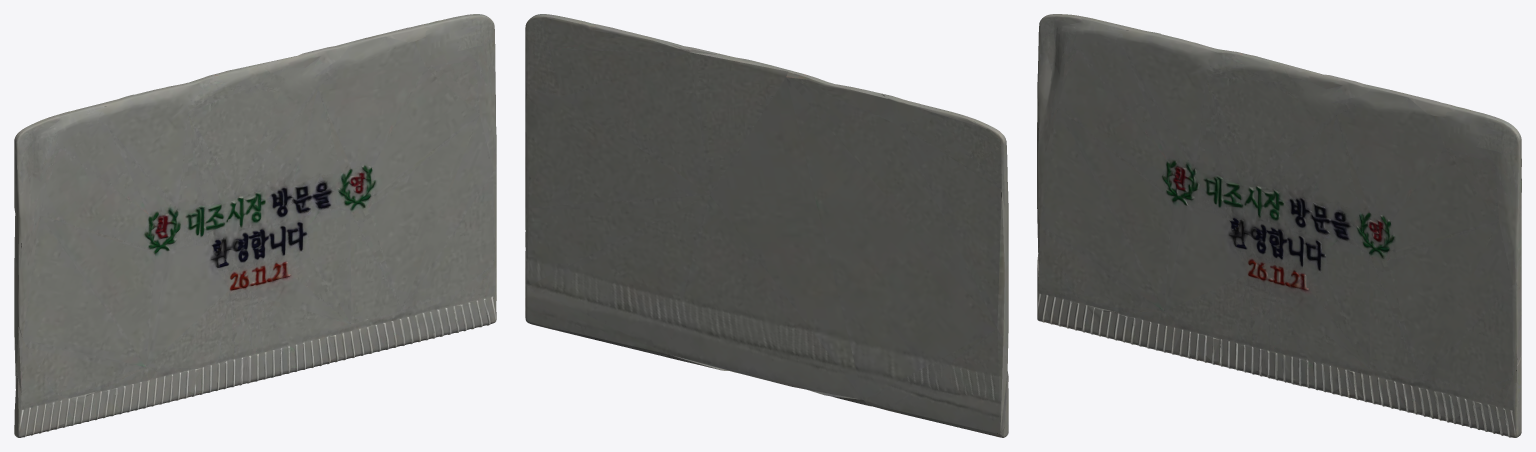
File: towel.glb
The picture shows the model from 3 angles, left to right: view 1: azimuth 30°, elevation 25°; view 2: azimuth 150°, elevation 25°; view 3: azimuth 330°, elevation 25°; orthographic projection.
Visible parts, largest first — view 1: geometry_0; view 2: geometry_0; view 3: geometry_0.
Part boxes in pixels (<box>): geometry_0: <box>14,14,496,437</box>; geometry_0: <box>525,14,1008,437</box>; geometry_0: <box>1037,14,1521,437</box>.
Size of the model in its own units: 1.9 by 1.2 by 0.0421.
1 material, 1 textured.
